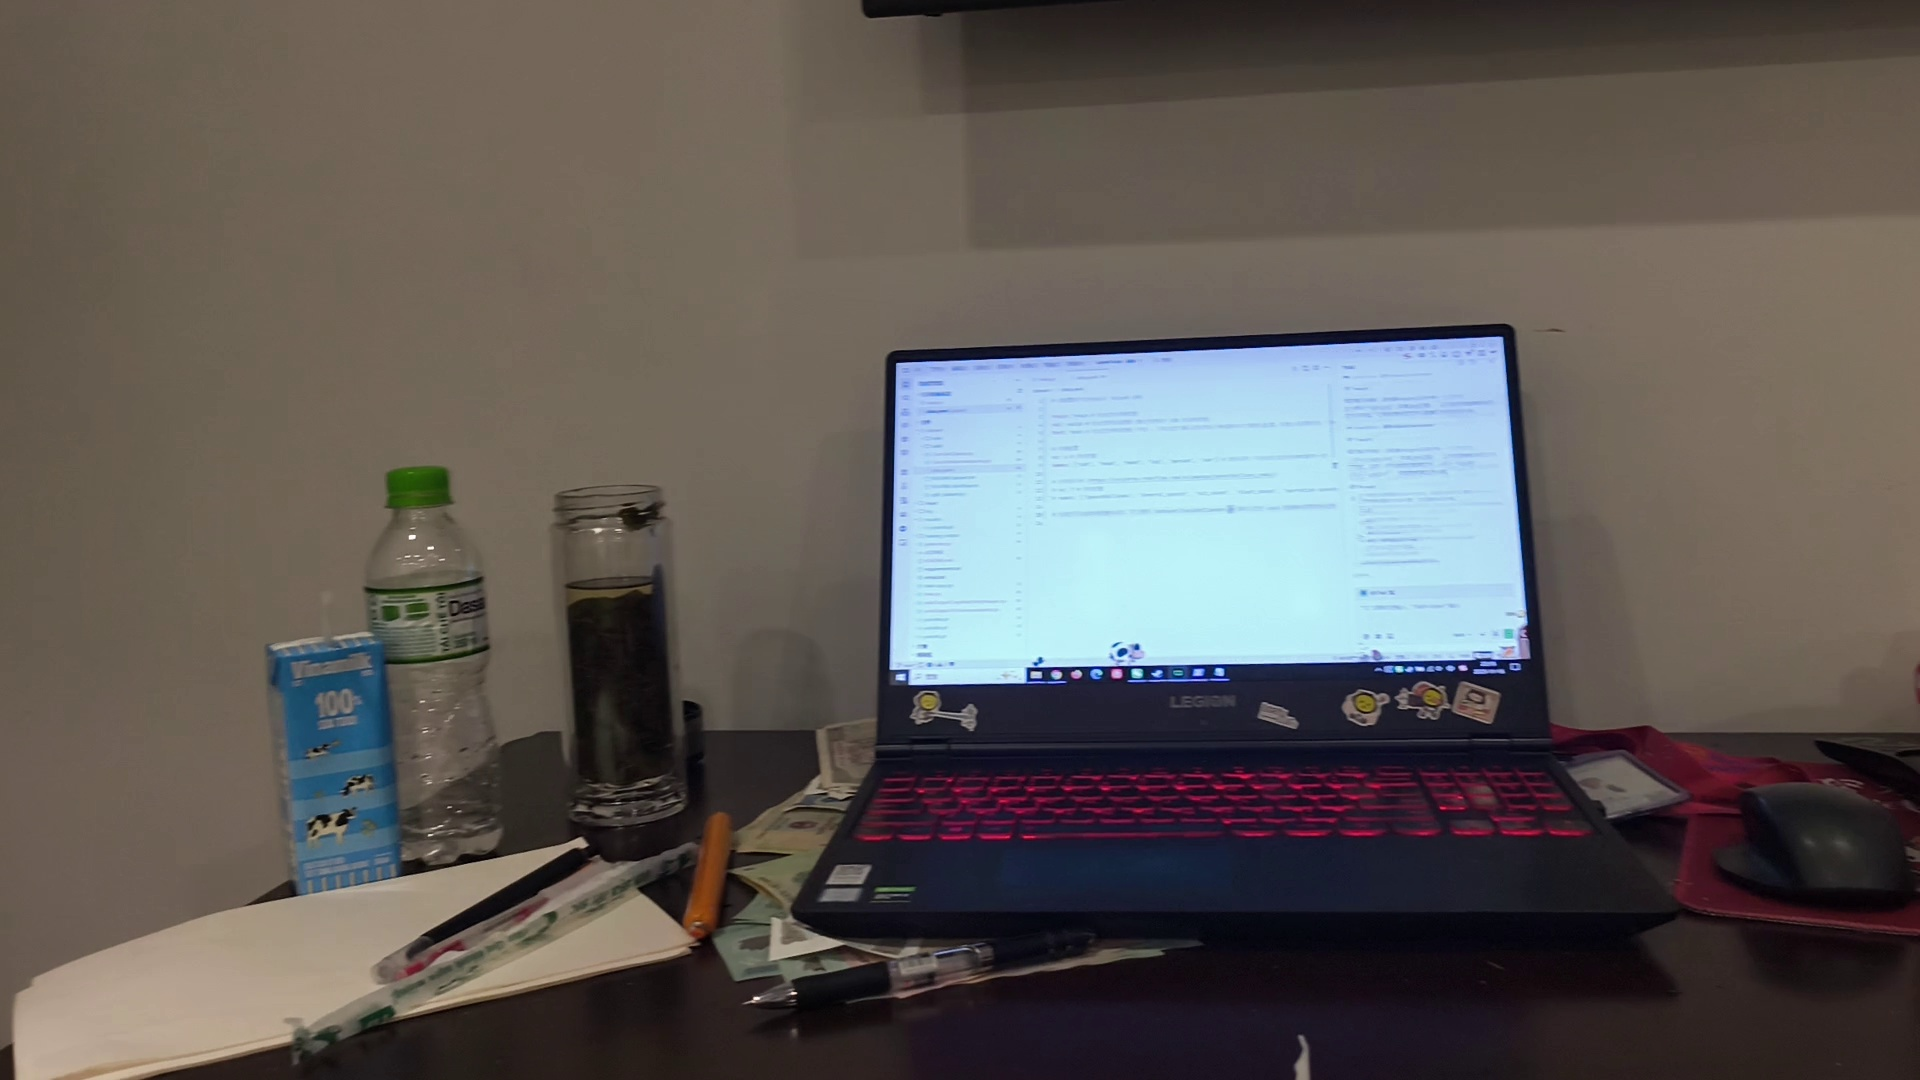bolibei: (551, 484, 682, 831)
bottle: (374, 483, 491, 859)
computer: (815, 326, 1675, 934)
milk: (268, 641, 410, 891)
mouse: (1730, 762, 1894, 907)
pen: (380, 831, 632, 997), (720, 930, 1084, 1034)
